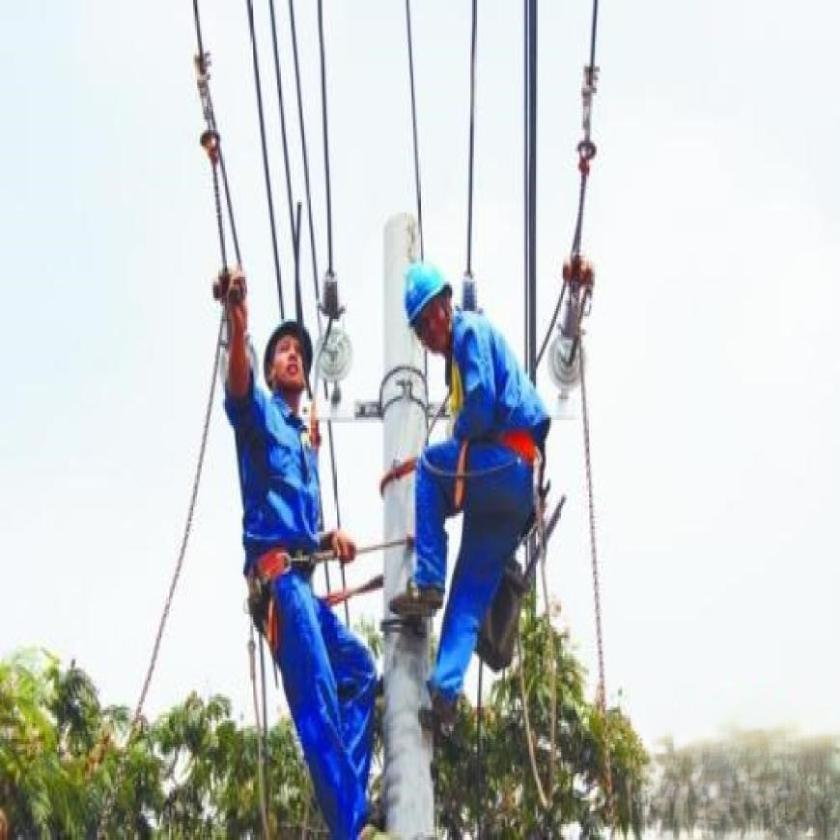Con_casco: (373, 258, 474, 371), (255, 292, 322, 391)
